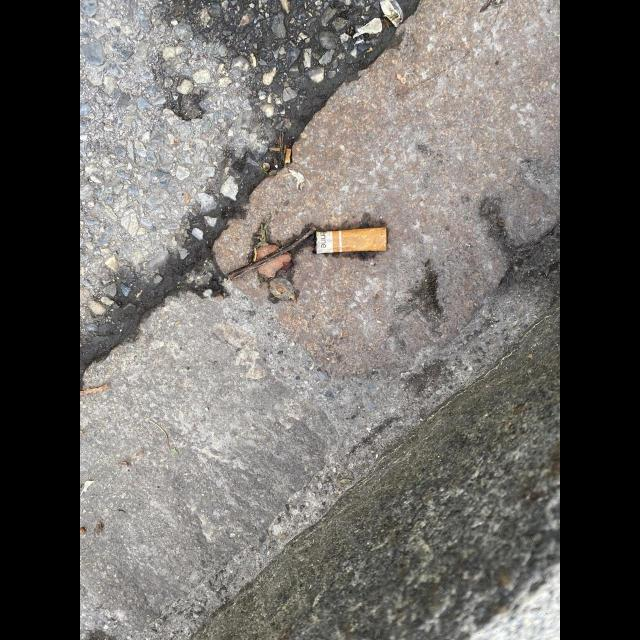cigarette: (314, 227, 387, 254)
